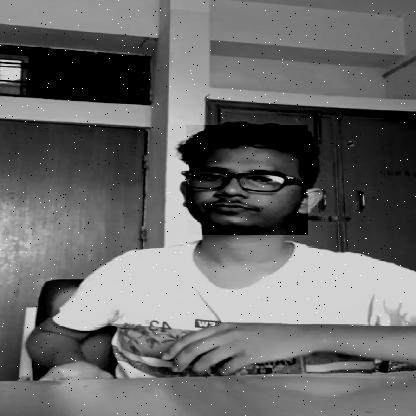Normal: (186, 125, 308, 235)
